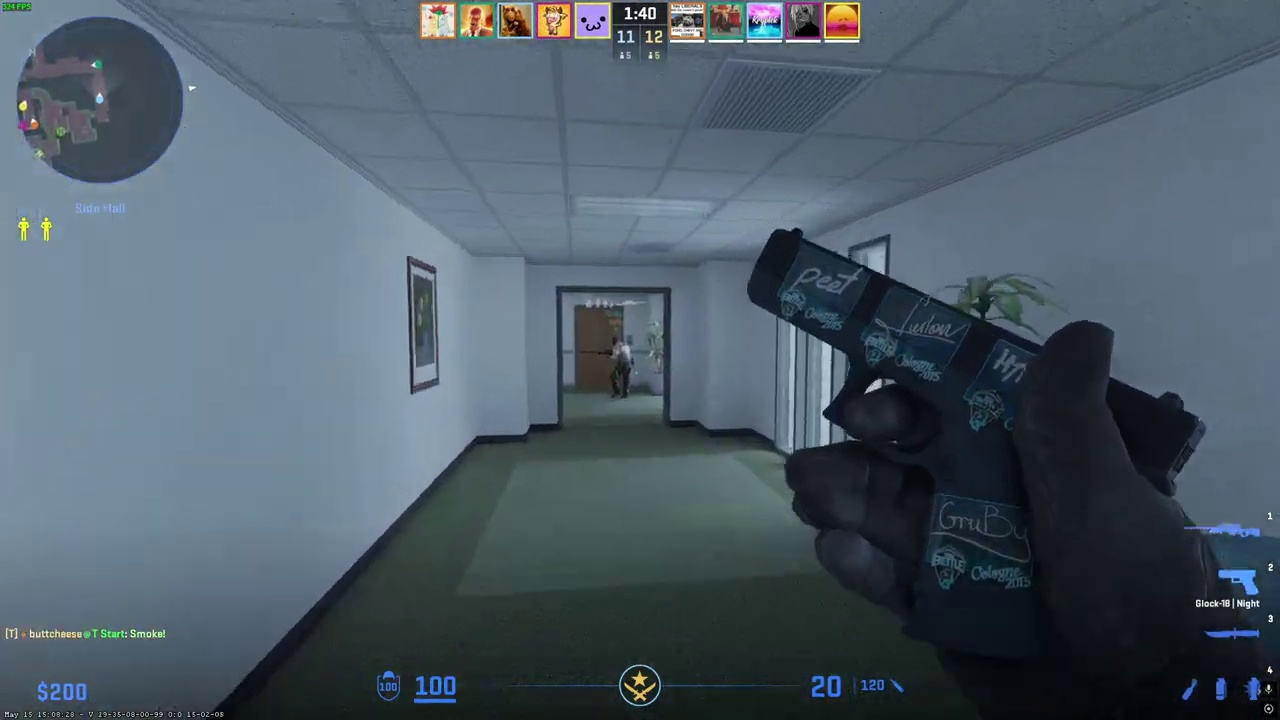Terrorist: (606, 336, 631, 399)
